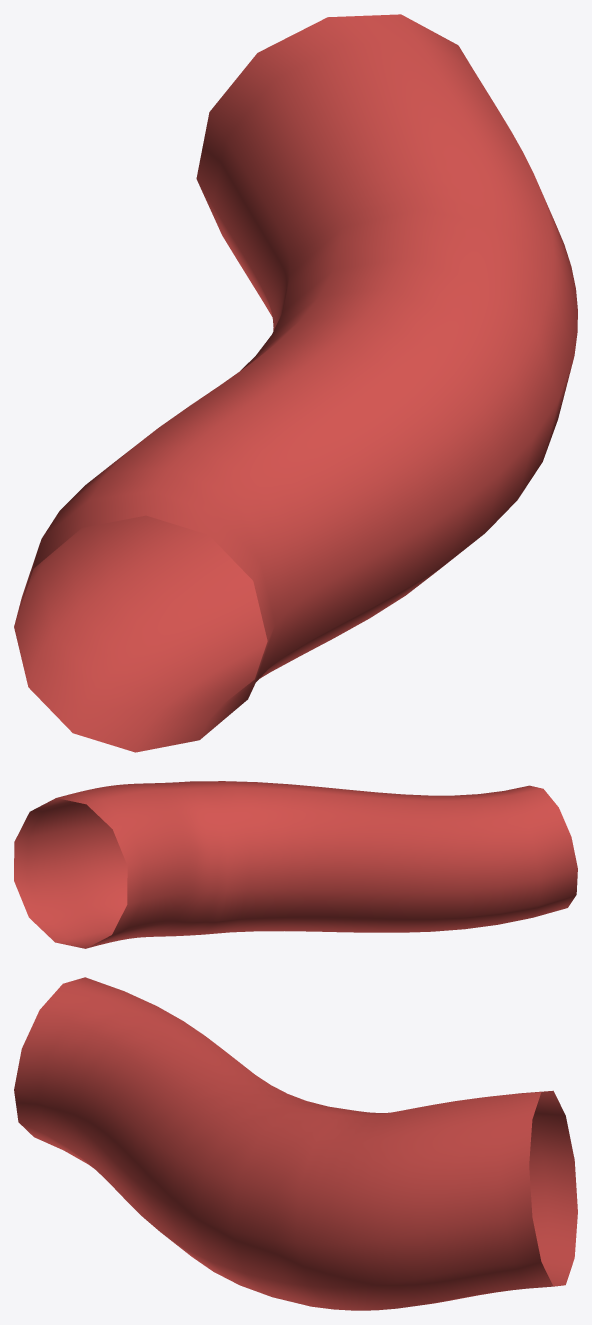
The picture shows the model from 3 angles, top to bottom: view 1: azimuth 30°, elevation 25°; view 2: azimuth 150°, elevation 25°; view 3: azimuth 270°, elevation 25°; orthographic projection. The views are drawn at different scales.
Parts seen in each view (by area): view 1: 头臂干; view 2: 头臂干; view 3: 头臂干.
Part boxes in pixels (x1=…): 头臂干: x1=14, y1=14, x2=577, y2=752; 头臂干: x1=14, y1=781, x2=577, y2=948; 头臂干: x1=14, y1=977, x2=577, y2=1310.
Bounding box in the file's own units: 0.0531 × 0.0228 × 0.0494.
